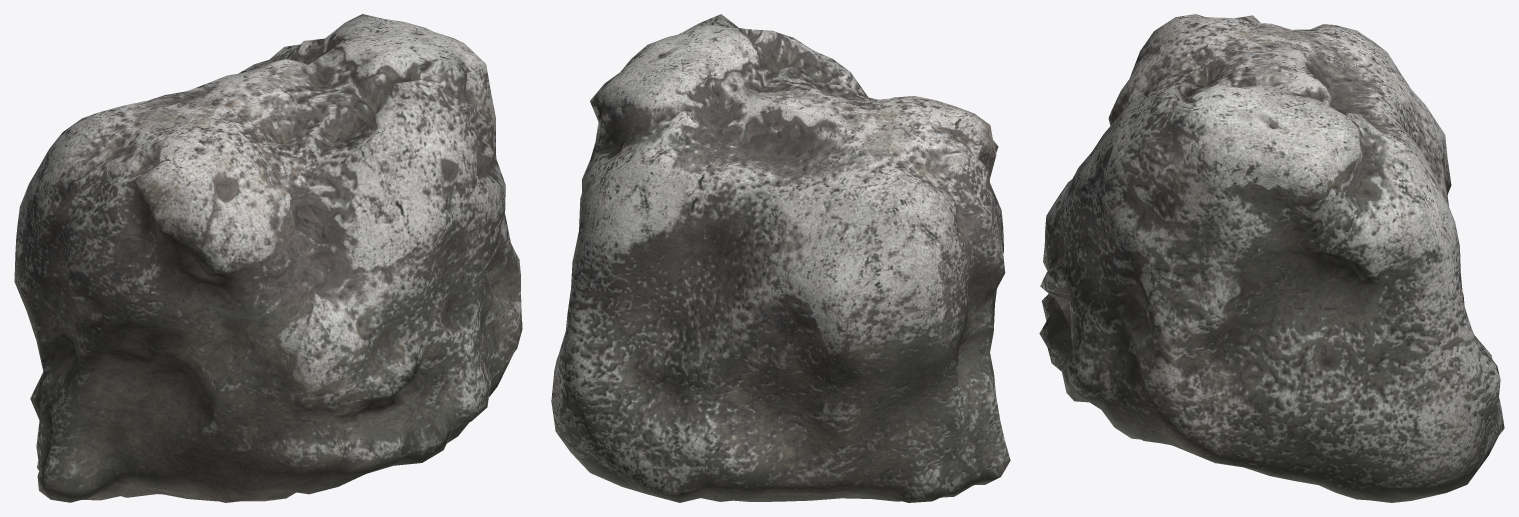
File: rock4.obj
The picture shows the model from 3 angles, left to right: view 1: azimuth 30°, elevation 25°; view 2: azimuth 150°, elevation 25°; view 3: azimuth 270°, elevation 25°; orthographic projection. The views are drawn at different scales.
Parts seen in each view (by area): view 1: rock4; view 2: rock4; view 3: rock4.
Boxes of the visible parts, x1,y1,x2,y2 form: rock4: [14, 14, 522, 502]; rock4: [551, 14, 1010, 502]; rock4: [1039, 14, 1504, 502].
Size of the model in its own units: 3.52 by 3.32 by 3.36.
Materials: 1 (1 with a texture image).
